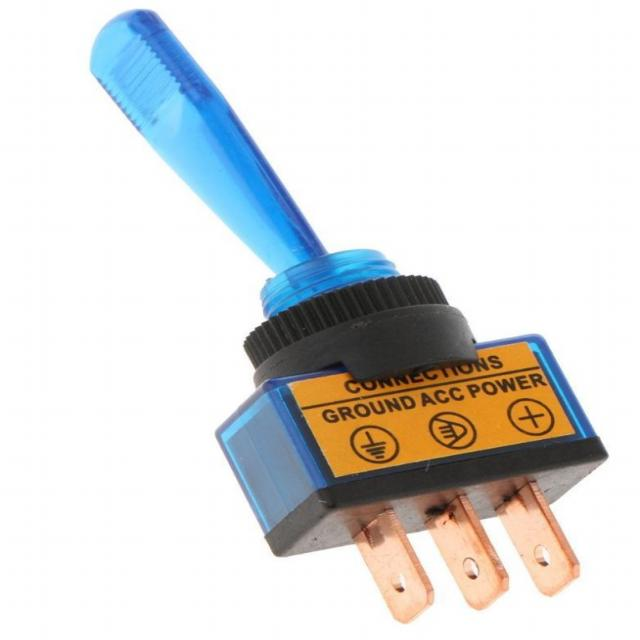toggle switch: (90, 7, 469, 383)
